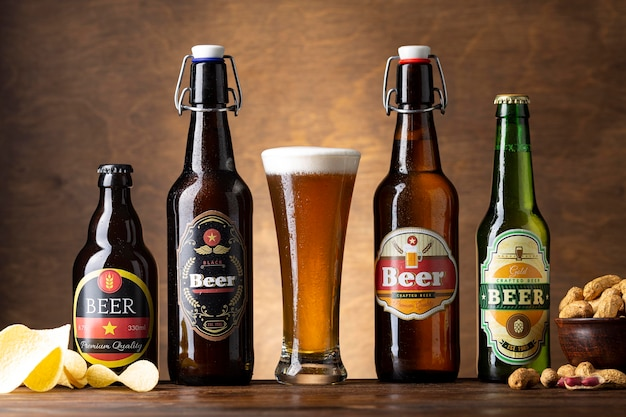alcohol: (165, 45, 254, 389), (372, 46, 461, 380), (261, 146, 360, 386), (478, 94, 552, 383), (74, 163, 160, 386)
